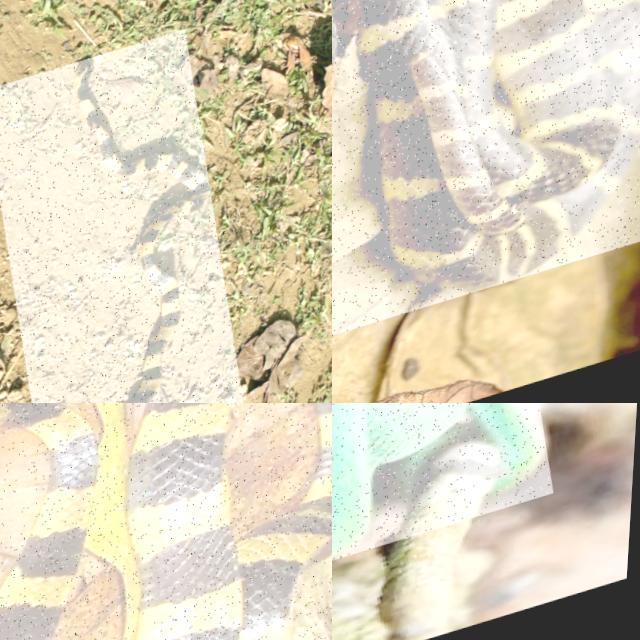Bungarus fasciatus: (350, 0, 639, 289), (127, 403, 331, 639), (74, 59, 209, 402)
Trimeresurus macrops: (332, 403, 544, 556)
